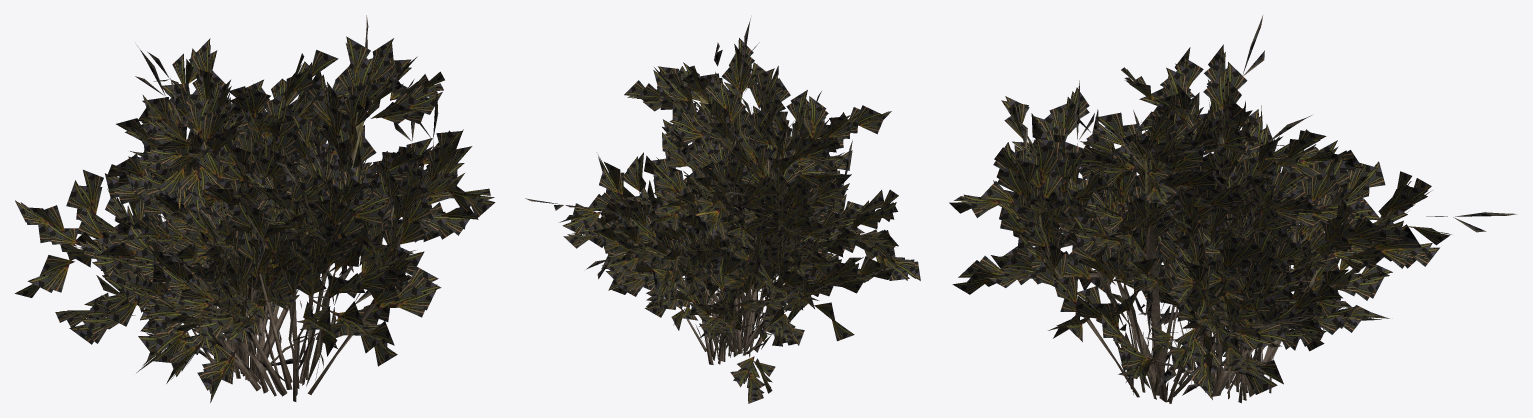
File: wild_rooibos_bush.glb
3 views of the same model, side by side, from view 1: azimuth 30°, elevation 25°; view 2: azimuth 150°, elevation 25°; view 3: azimuth 270°, elevation 25° (orthographic). The views are drawn at different scales.
Visible parts, largest first — view 1: wild_rooibos_bush_a, wild_rooibos_bush_b, wild_rooibos_bush_c, wild_rooibos_bush_d; view 2: wild_rooibos_bush_a, wild_rooibos_bush_b, wild_rooibos_bush_c, wild_rooibos_bush_d, wild_rooibos_bush_e; view 3: wild_rooibos_bush_a, wild_rooibos_bush_b, wild_rooibos_bush_d, wild_rooibos_bush_c, wild_rooibos_bush_e.
Part boxes in pixels (bbox=[...]): wild_rooibos_bush_a: bbox=[15, 15, 495, 402]; wild_rooibos_bush_b: bbox=[55, 46, 438, 379]; wild_rooibos_bush_c: bbox=[114, 126, 332, 373]; wild_rooibos_bush_d: bbox=[169, 89, 326, 381]; wild_rooibos_bush_a: bbox=[525, 18, 920, 346]; wild_rooibos_bush_b: bbox=[593, 96, 858, 403]; wild_rooibos_bush_c: bbox=[589, 120, 836, 361]; wild_rooibos_bush_d: bbox=[644, 136, 834, 353]; wild_rooibos_bush_e: bbox=[678, 216, 792, 364]; wild_rooibos_bush_a: bbox=[949, 67, 1517, 403]; wild_rooibos_bush_b: bbox=[1075, 15, 1389, 395]; wild_rooibos_bush_d: bbox=[1119, 140, 1363, 396]; wild_rooibos_bush_c: bbox=[1080, 95, 1392, 403]; wild_rooibos_bush_e: bbox=[1173, 231, 1274, 396].
Bounding box in the file's own units: 0.69 × 0.5425 × 0.8433.
Materials: 2 (2 with a texture image).
